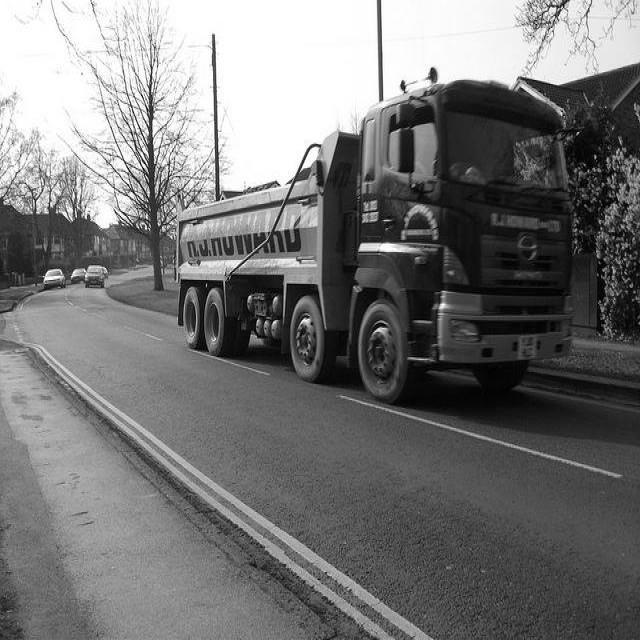vehicle: (175, 84, 579, 402), (83, 265, 105, 289), (43, 269, 67, 289), (71, 268, 87, 282), (101, 266, 108, 279)
